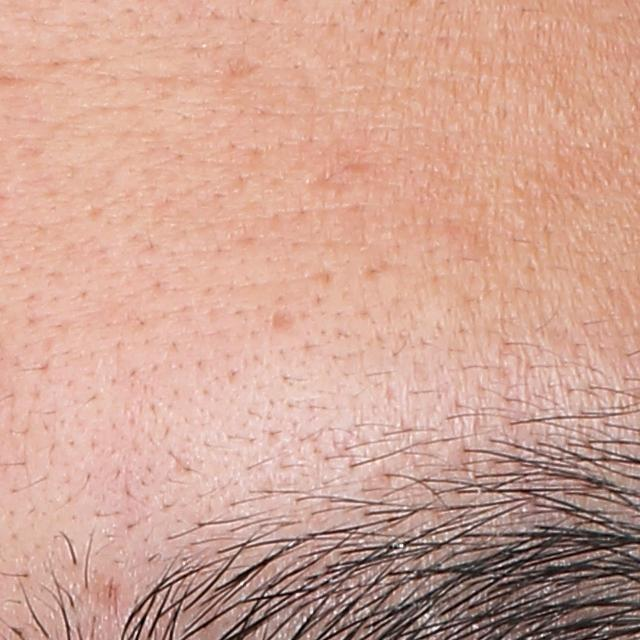atrophic_scar: (300, 148, 374, 199), (226, 47, 262, 83), (270, 301, 298, 337)
